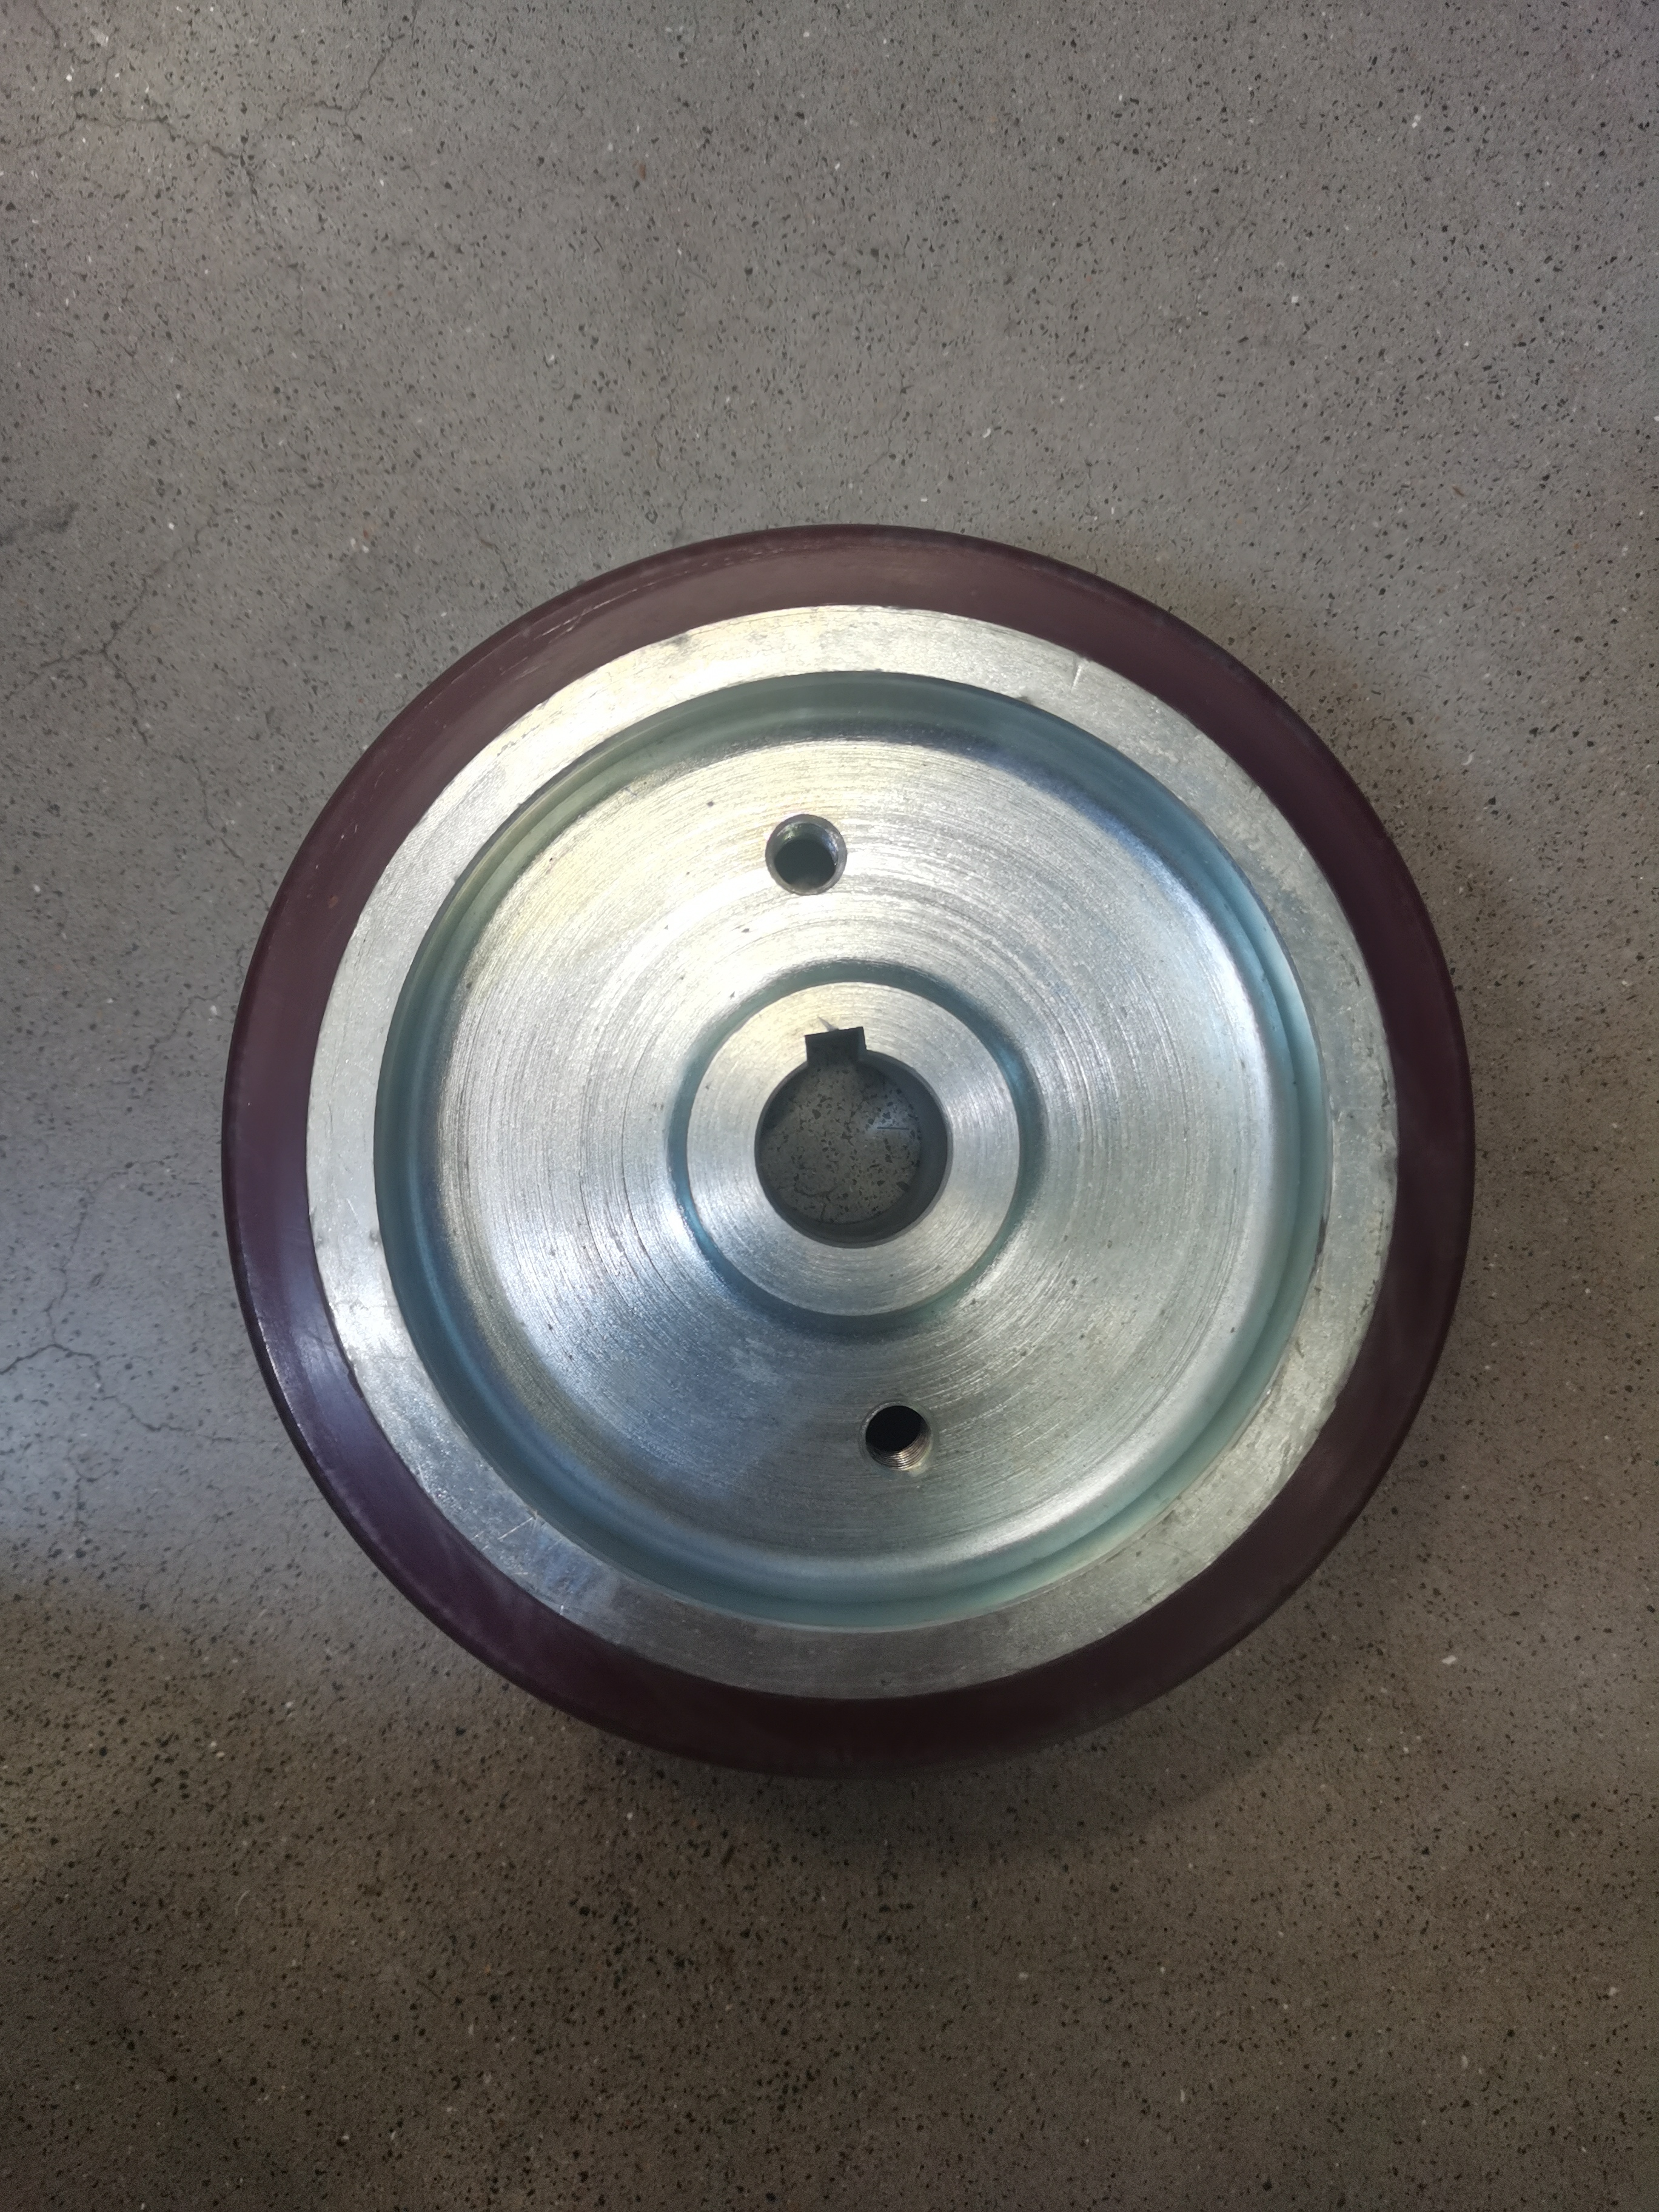good_wheel: (185, 467, 1528, 1851)
